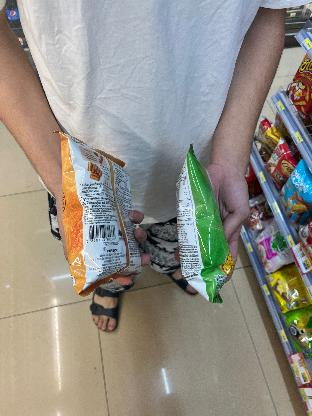Plastic Packaging: (48, 129, 154, 301), (172, 140, 226, 306)
